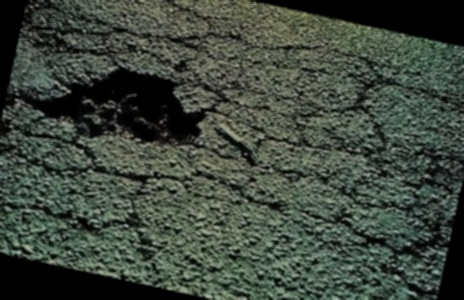pothole: (12, 41, 215, 165)
